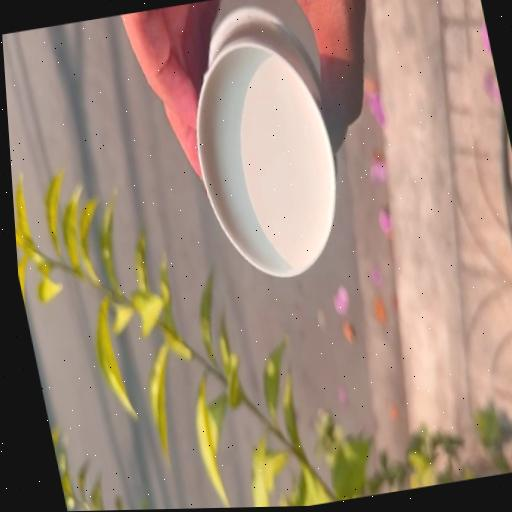Ly_giay: (197, 5, 336, 276)
